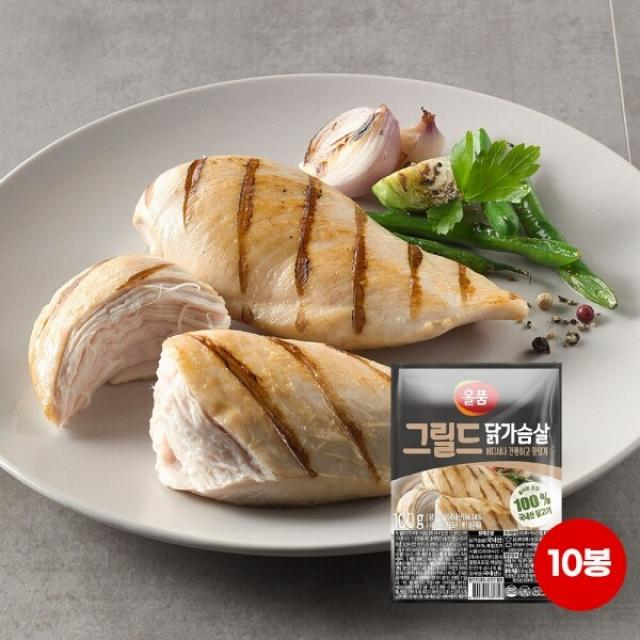chicken: (123, 146, 529, 350), (140, 323, 401, 501)
